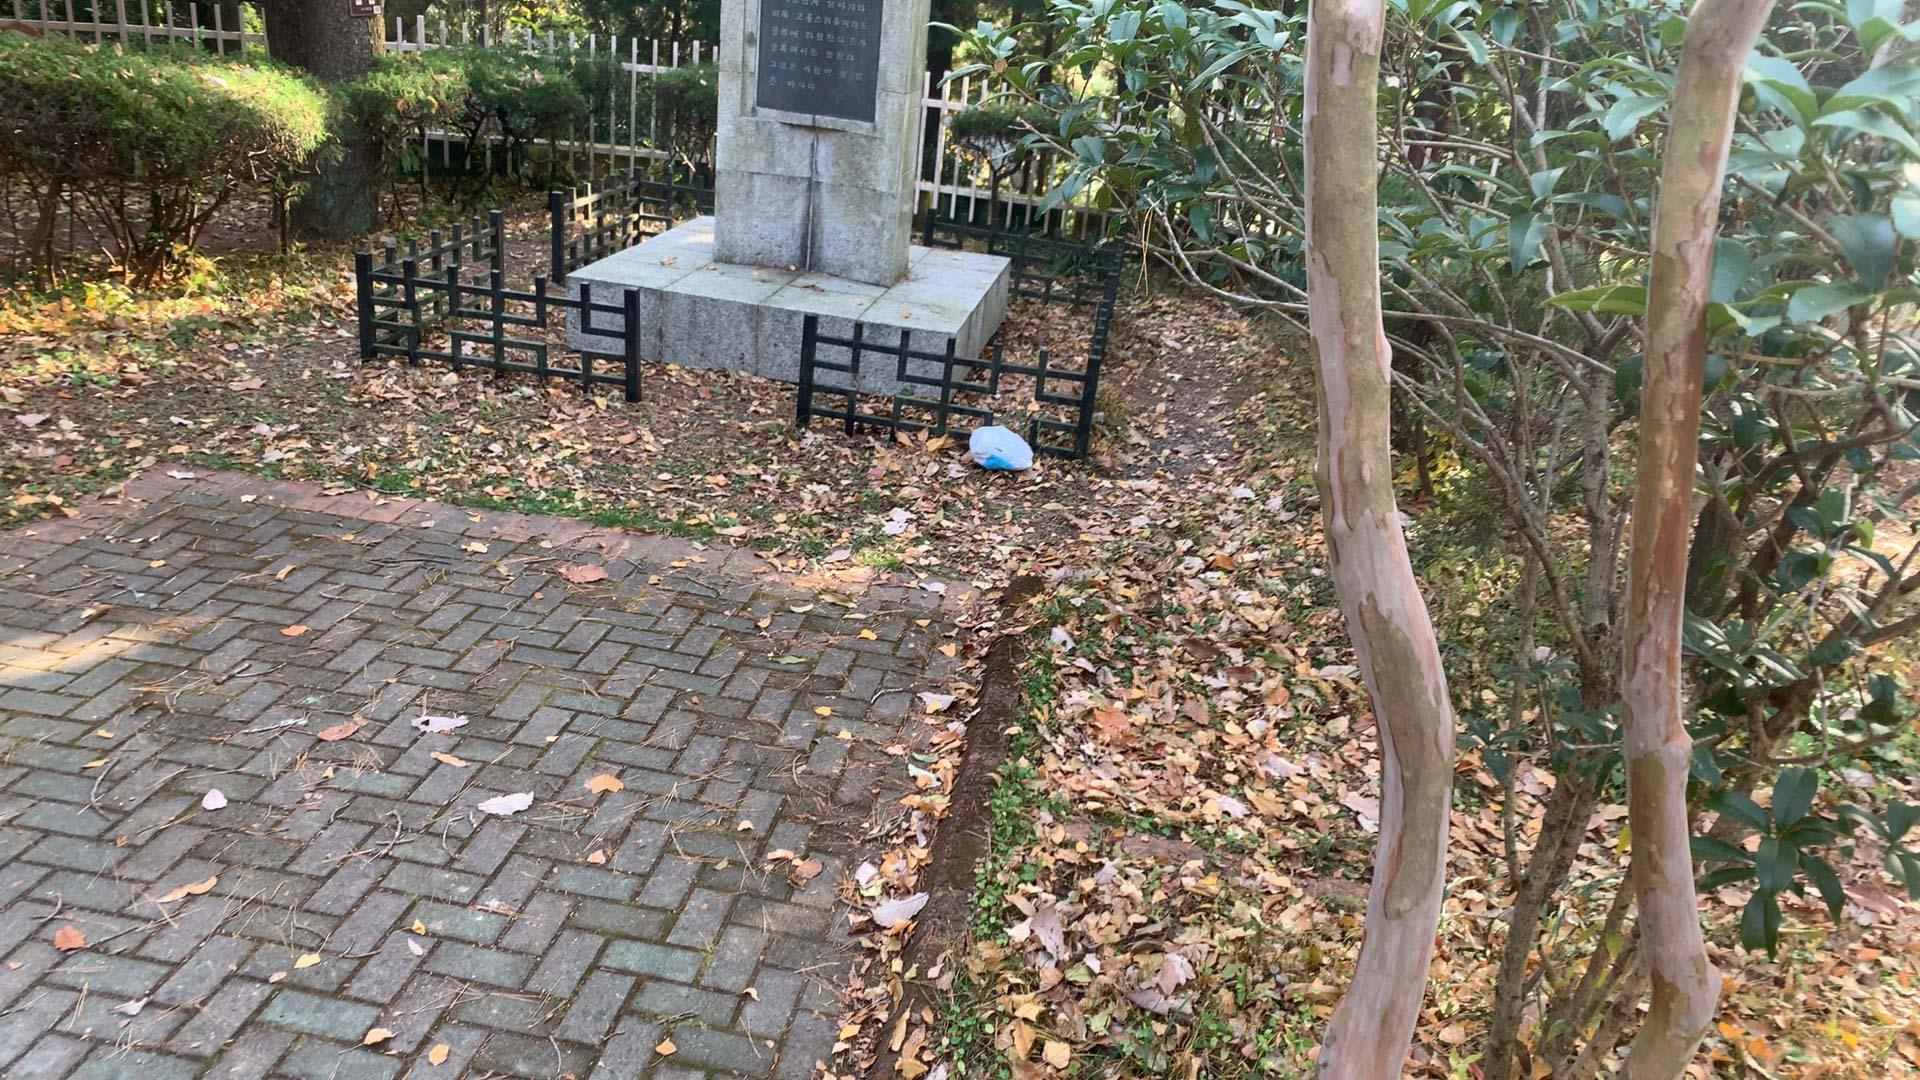white_bag: (960, 418, 1044, 481)
